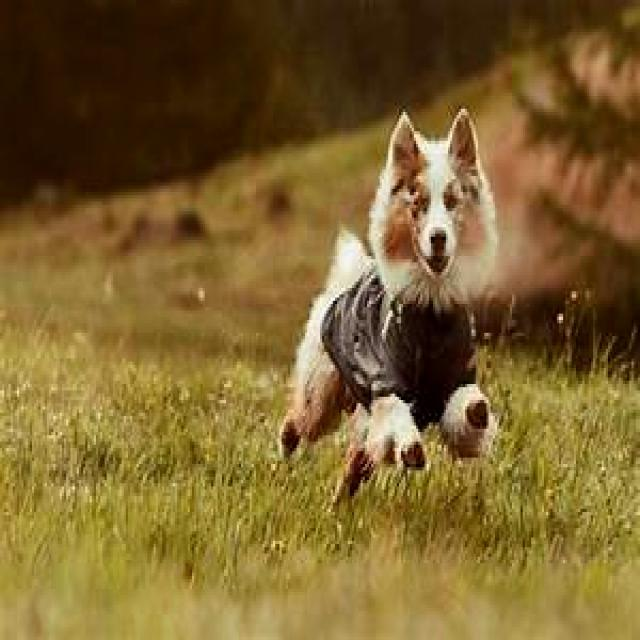KOPEK: (281, 104, 508, 516)
